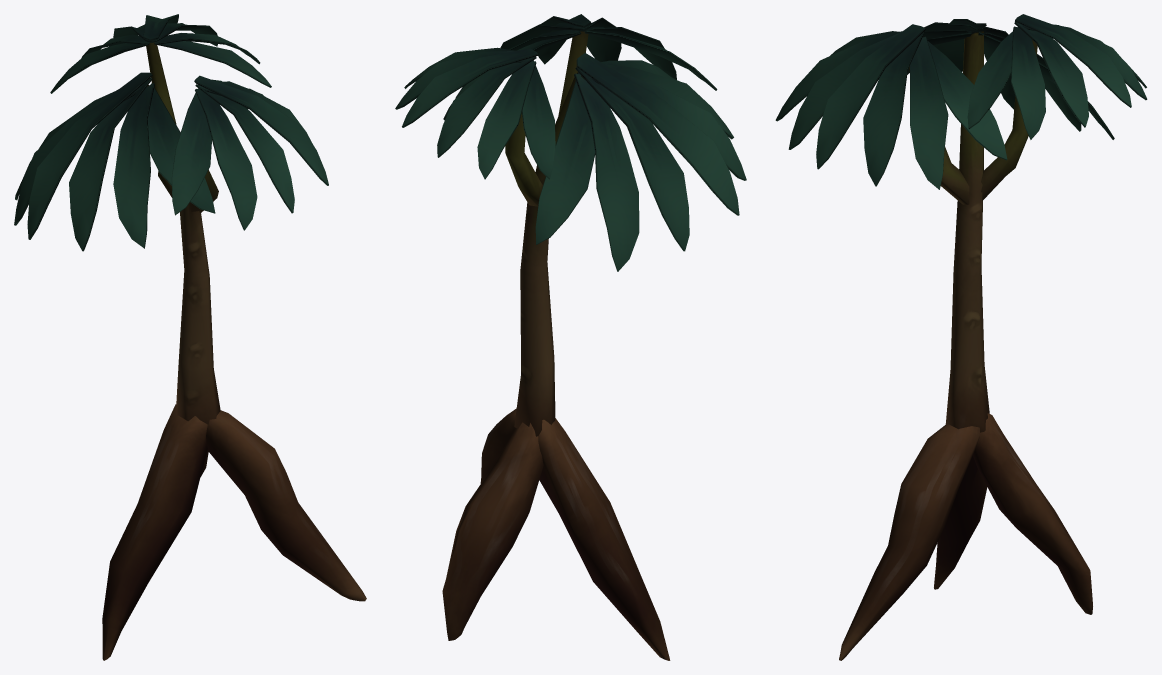
File: mandioca inteira.fbx
3 views of the same model, side by side, from view 1: azimuth 30°, elevation 25°; view 2: azimuth 150°, elevation 25°; view 3: azimuth 270°, elevation 25° (orthographic). The views are drawn at different scales.
Parts seen in each view (by area): view 1: mandioca1:Group22124, mandioca4:Group7658, mandioca4:Group56082, mandioca, mandioca3:Group44205; view 2: mandioca1:Group22124, mandioca4:Group7658, mandioca, mandioca3:Group44205, mandioca4:Group56082; view 3: mandioca1:Group22124, mandioca4:Group7658, mandioca4:Group56082, mandioca, mandioca3:Group44205.
Part boxes in pixels (x1,y1,x2,y2): mandioca1:Group22124: [14, 14, 328, 251]; mandioca4:Group7658: [102, 404, 208, 660]; mandioca4:Group56082: [206, 410, 366, 601]; mandioca: [147, 85, 220, 424]; mandioca3:Group44205: [146, 42, 218, 213]; mandioca1:Group22124: [395, 14, 746, 271]; mandioca4:Group7658: [442, 418, 670, 660]; mandioca: [514, 72, 584, 436]; mandioca3:Group44205: [505, 31, 588, 206]; mandioca4:Group56082: [480, 408, 516, 483]; mandioca1:Group22124: [775, 14, 1147, 189]; mandioca4:Group7658: [934, 413, 1092, 614]; mandioca4:Group56082: [839, 424, 979, 660]; mandioca: [945, 31, 989, 432]; mandioca3:Group44205: [909, 40, 1037, 204].
Size of the model in its own units: 47.31 by 89.66 by 49.02.
Materials: 2 (2 with a texture image).
